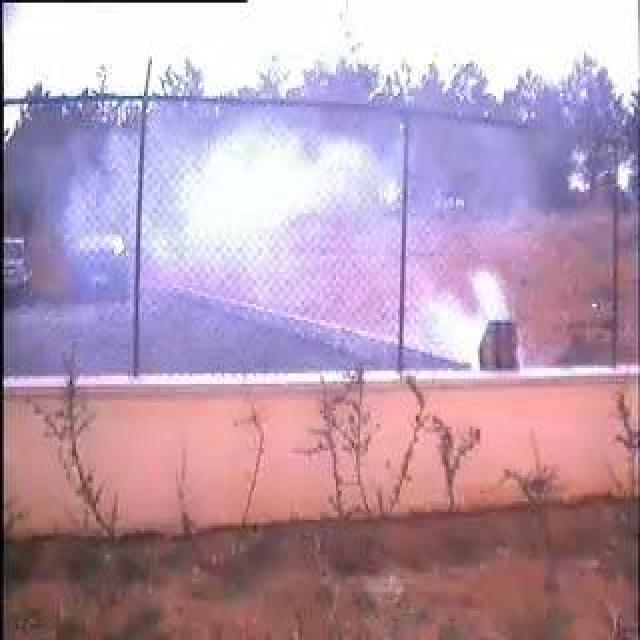Smoke: (83, 123, 537, 357)
